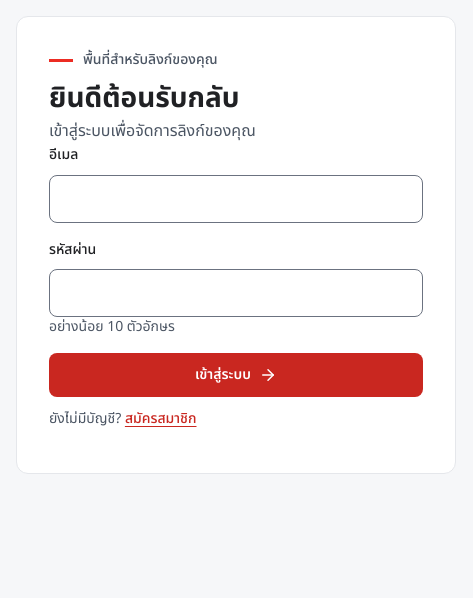
Test case: forms and API integration › shows server field errors and permits retry
This screenshot has width=473, height=598.
Type "test@example.com" into the field labelled "อีเมล".
click(236, 199); type("test@example.com")  # box [49,175,423,223]
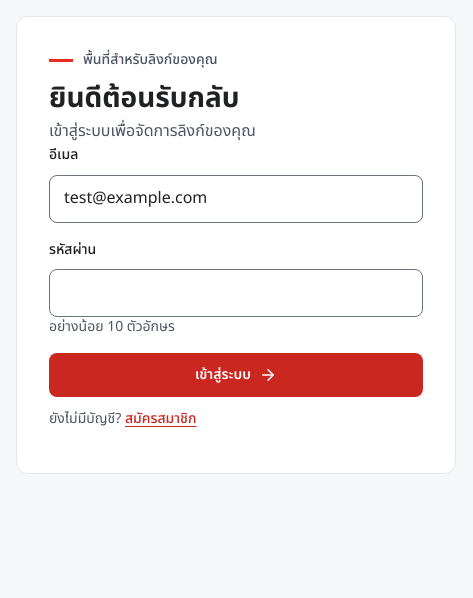
Type "StrongPassword123" into the password field labelled "รหัสผ่าน".
click(236, 293); type("StrongPassword123")  # box [49,269,423,317]
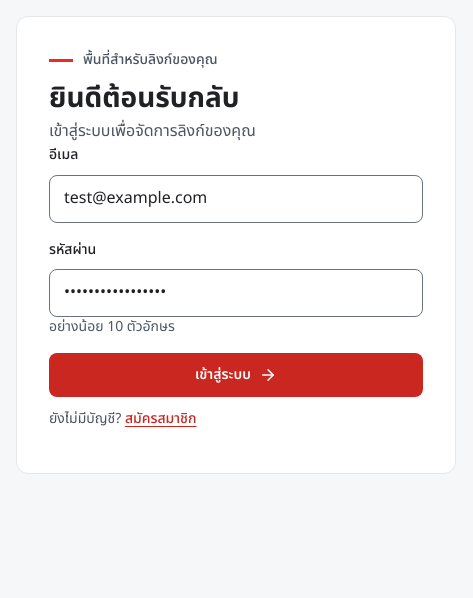
Click the button "เข้าสู่ระบบ".
click(236, 375)  # box [49,353,423,397]
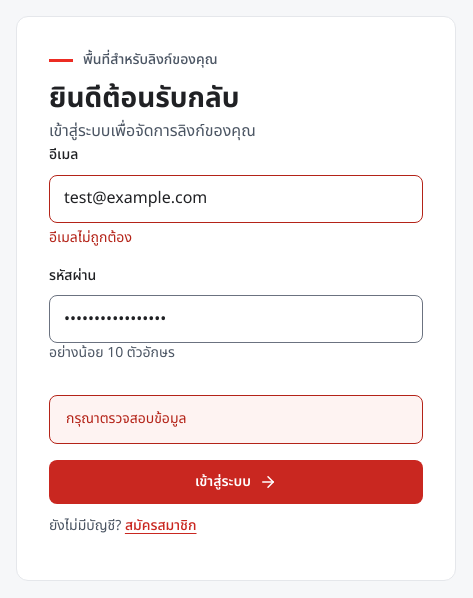
Expected: the button "เข้าสู่ระบบ" is enabled, [49,460,423,504]
Expected: the message reads "กรุณาตรวจสอบข้อมูล", [66,408,186,429]
